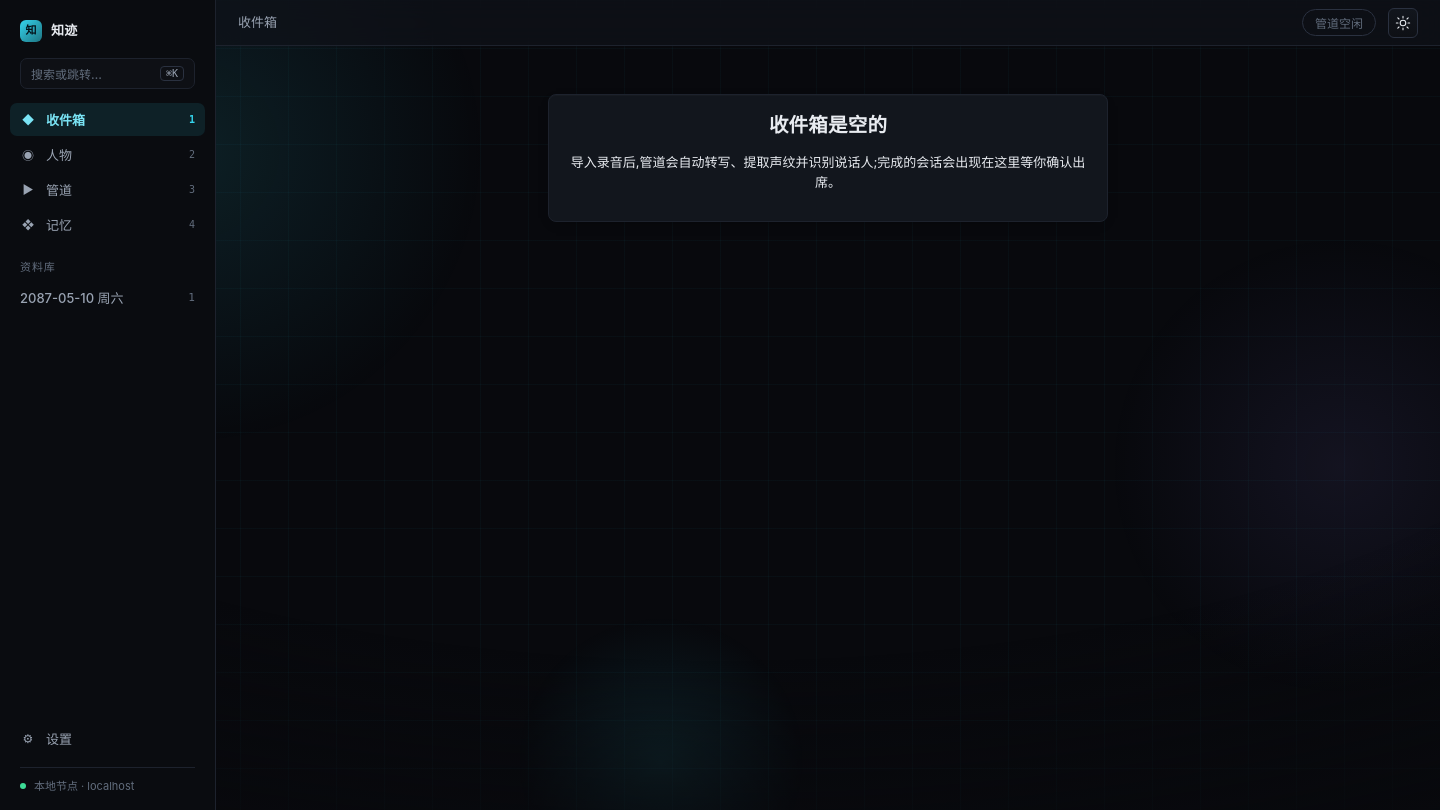
Test case: App container › renders the voiceprint workflow path on the 声纹 tab
Click the tab "◉ 人物 2": (108, 154) [10, 138, 205, 171]
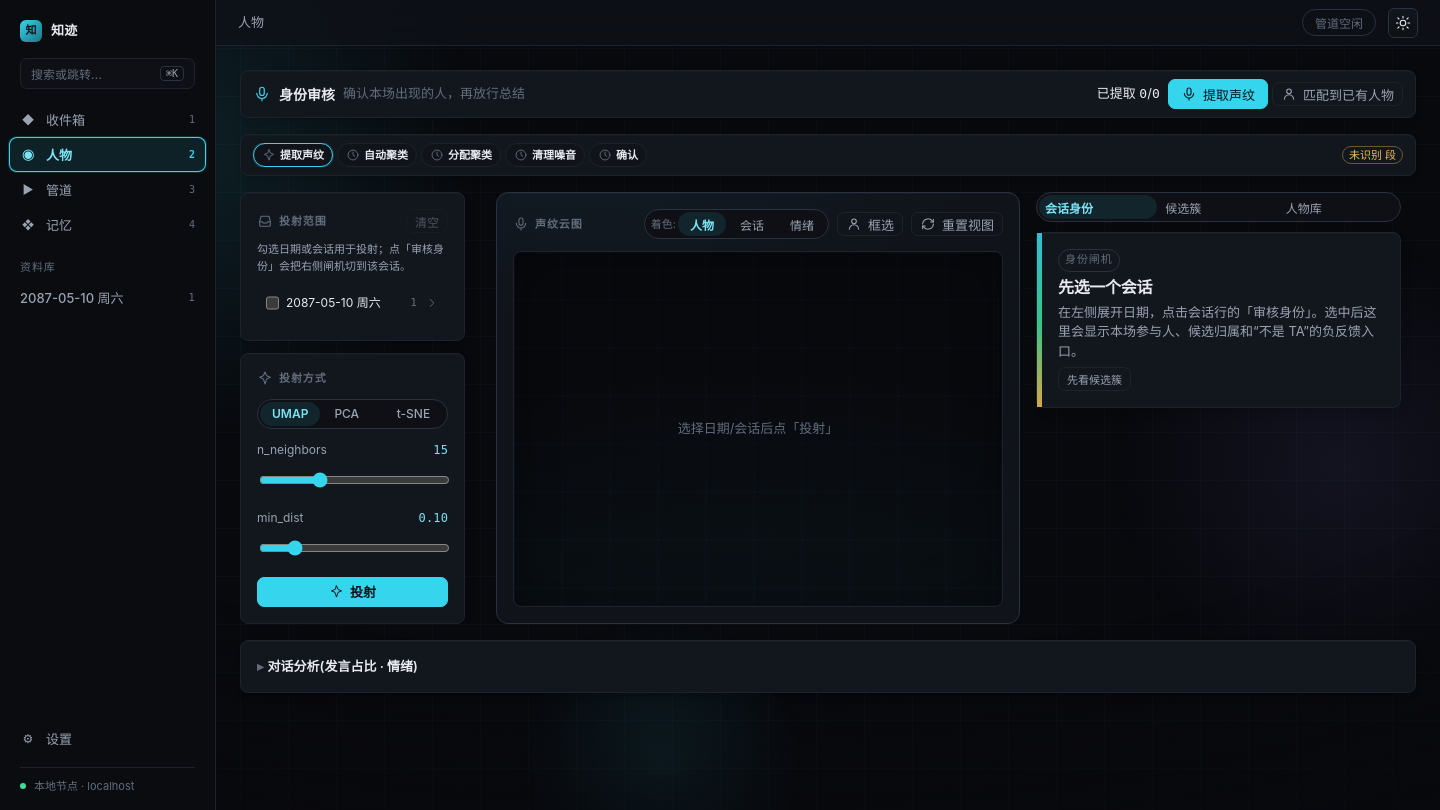
Now the text "身份审核" is shown, box [279, 86, 335, 102]
Now the text "提取声纹" is shown, box [280, 147, 324, 163]
Now the text "自动聚类" is shown, box [364, 147, 408, 163]
